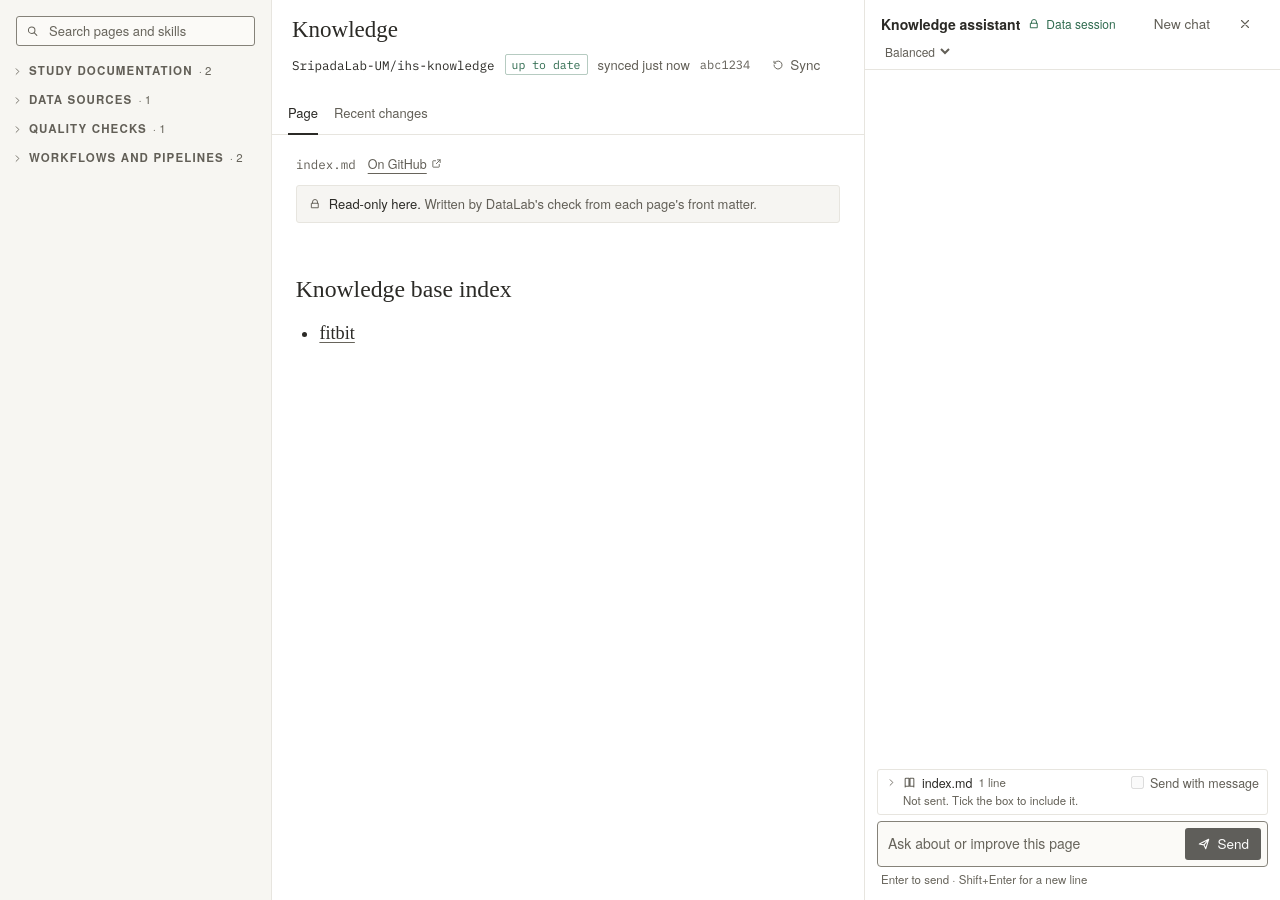
lists pages and skills by section, opening on the index
Expected: the heading "Knowledge base index" is shown, [296,276,512,302]
Step 1. Click the element showing "Study documentation · 2" → [112, 70], box [12,62,212,78]
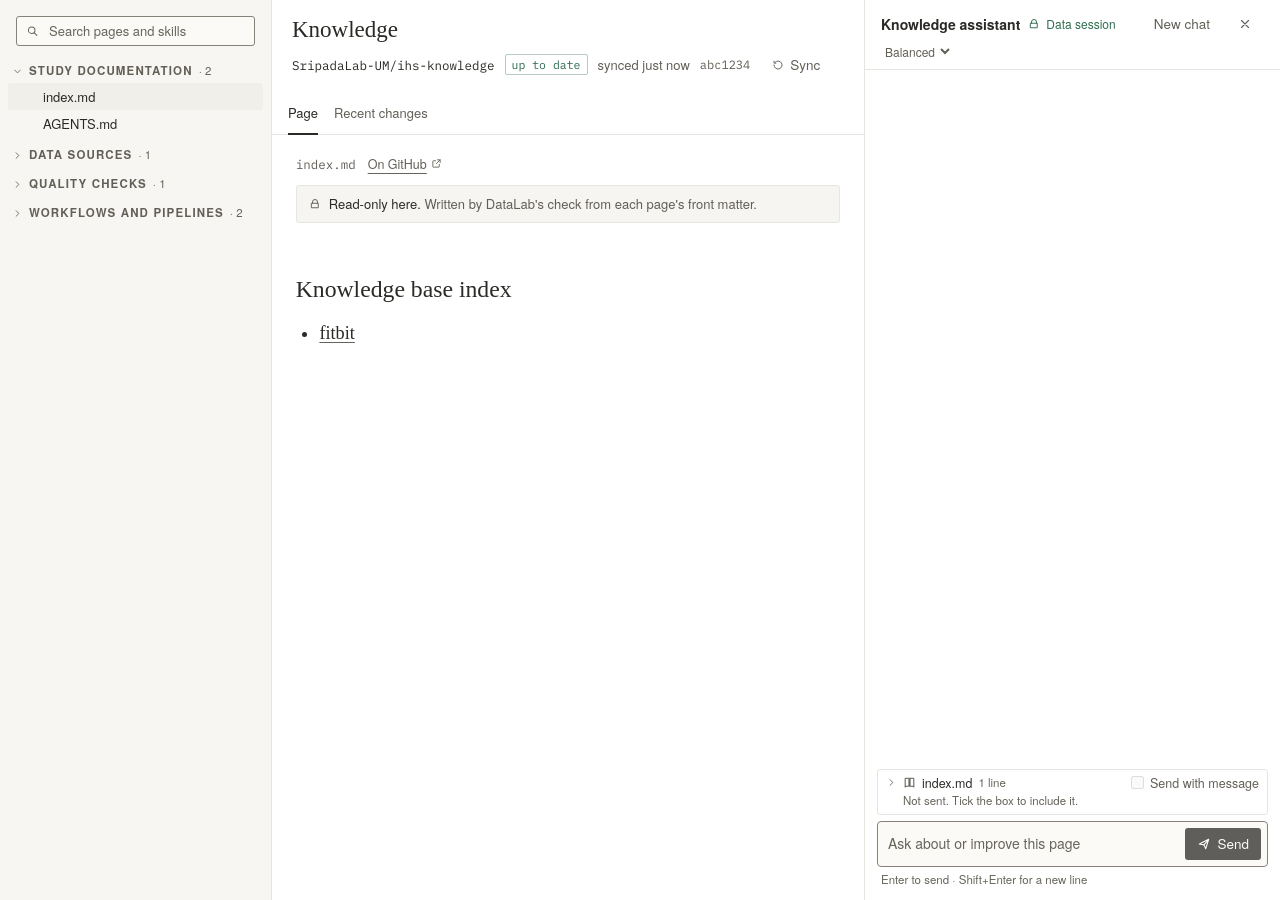
Step 2. Click the element showing "Quality checks · 1" → [89, 184], box [12,175,166,192]
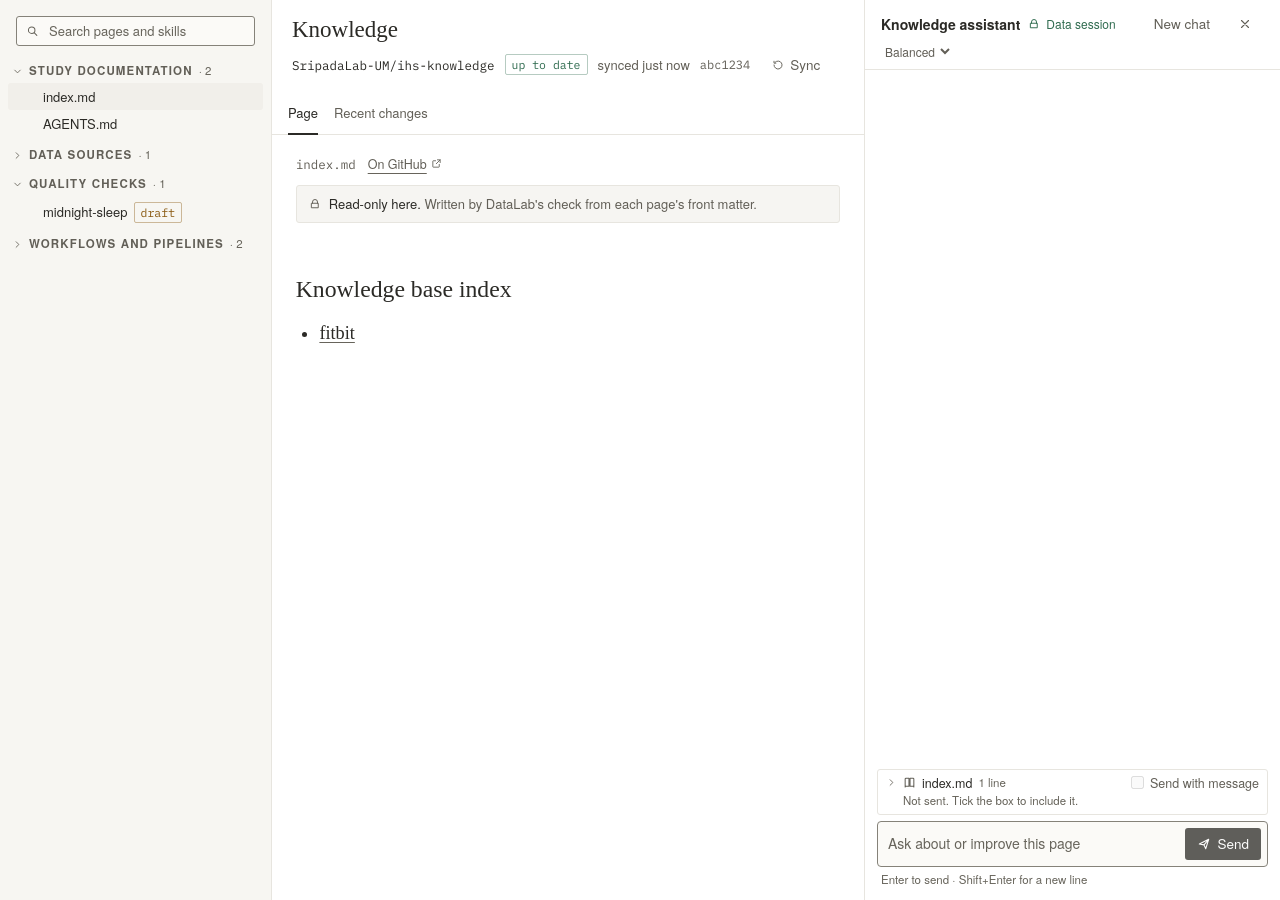
Expected: the list item with aria-label "midnight-sleep, draft" shows "draft", [140,205,175,220]
Step 3. Type "trackers" into the search field labelled "Search pages and skills" → [136, 31], box [16,16,255,46]
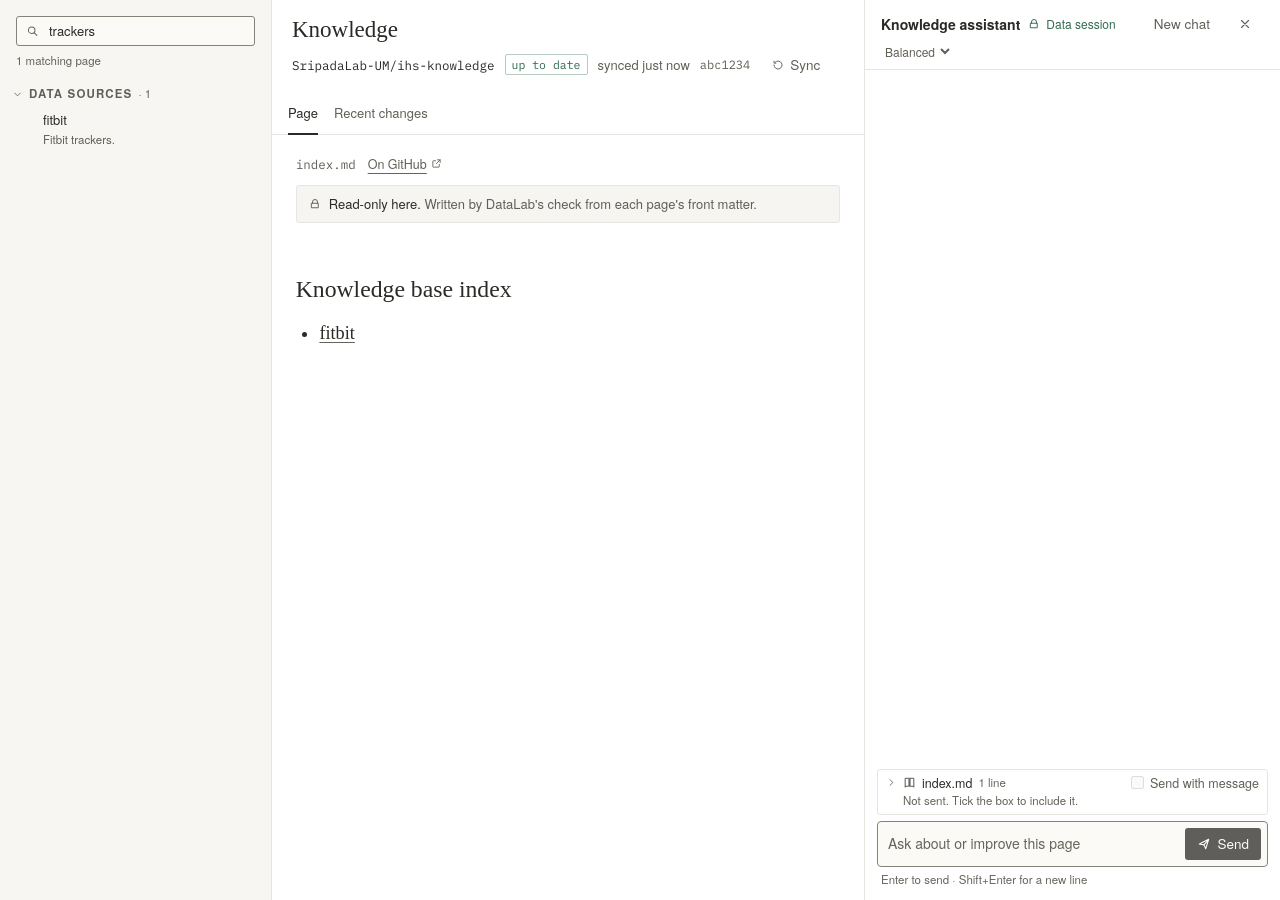
Expected: the text "midnight-sleep" is gone
Expected: the list item "fitbit" shows "Fitbit trackers.", [43,130,115,146]
